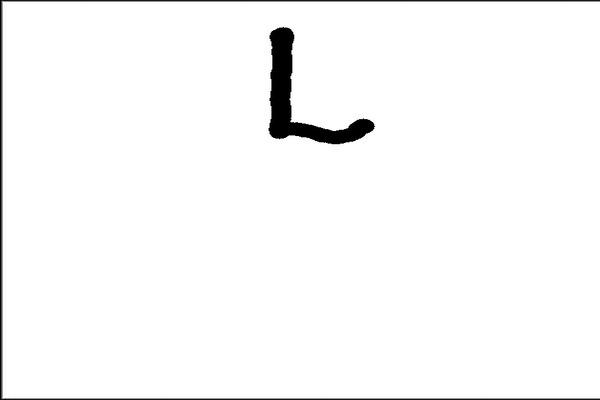L: (256, 22, 378, 153)
